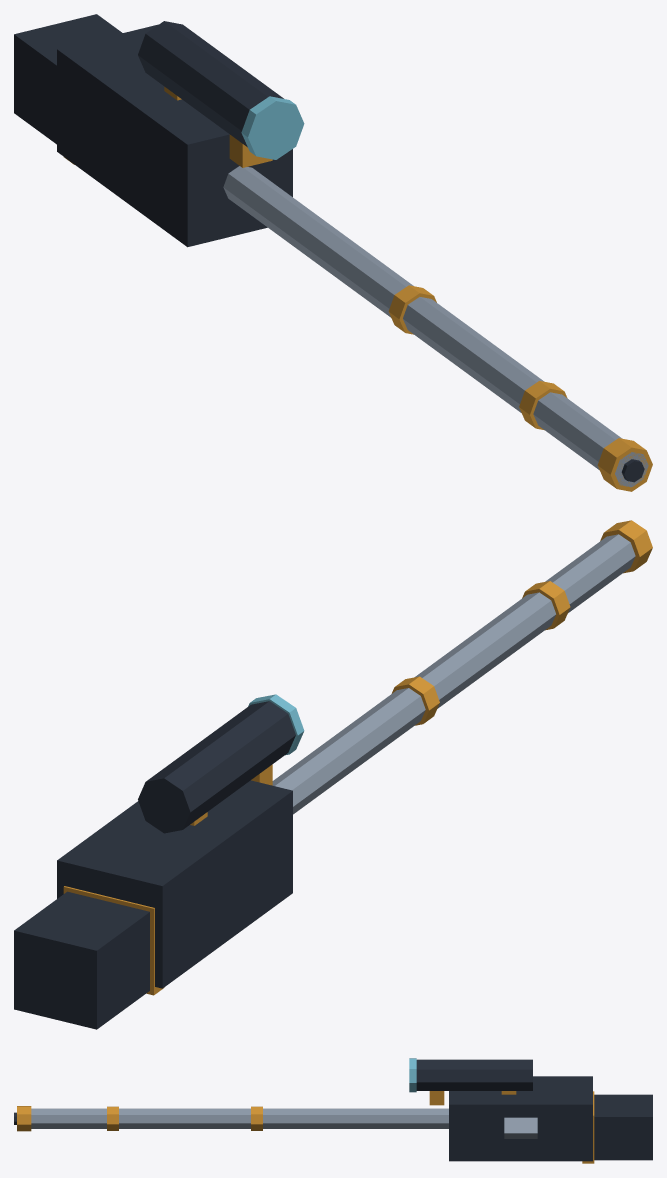
Rendered from SniperDefault.obj.
The picture shows the model from 3 angles, top to bottom: view 1: azimuth 30°, elevation 25°; view 2: azimuth 150°, elevation 25°; view 3: azimuth 270°, elevation 25°; orthographic projection. The views are drawn at different scales.
Visible parts, largest first — view 1: SniperDefault; view 2: SniperDefault; view 3: SniperDefault.
Boxes of the visible parts, x1=… form: SniperDefault: x1=14, y1=14, x2=652, y2=491; SniperDefault: x1=14, y1=520, x2=652, y2=1029; SniperDefault: x1=14, y1=1058, x2=652, y2=1163.
Size of the model in its own units: 0.3647 by 0.425 by 2.66.
